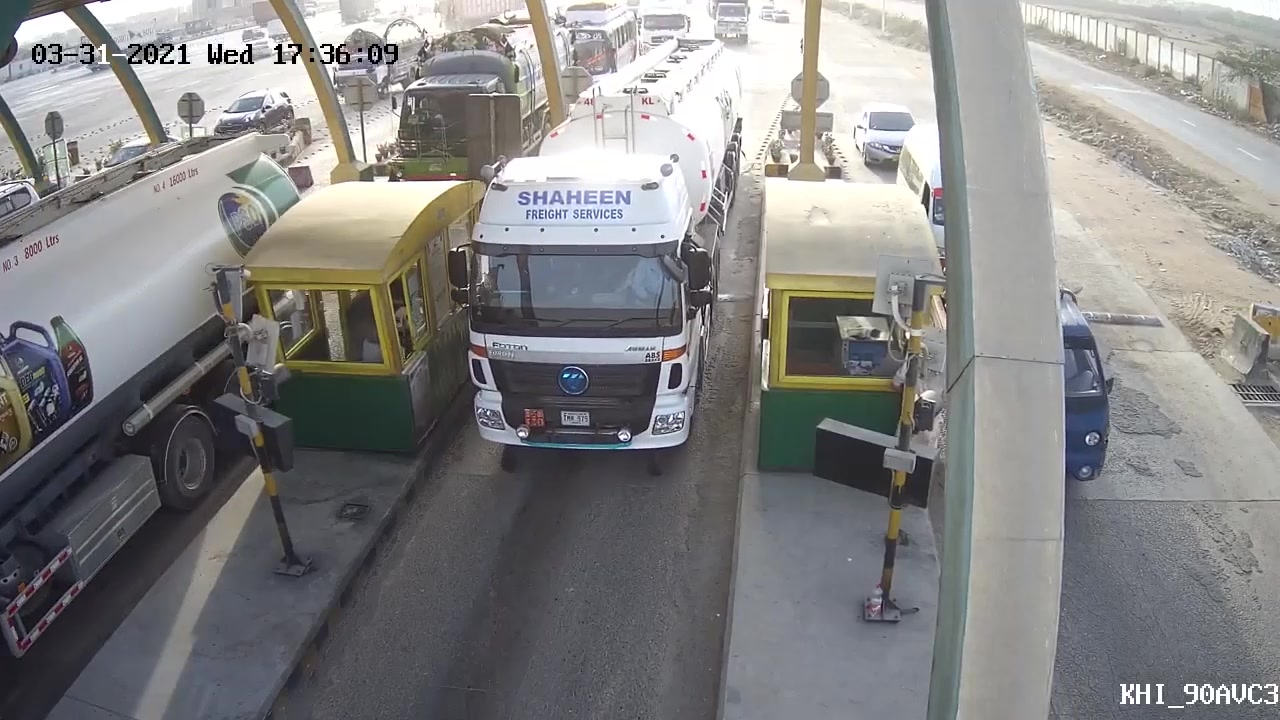F6: (455, 31, 748, 465)
